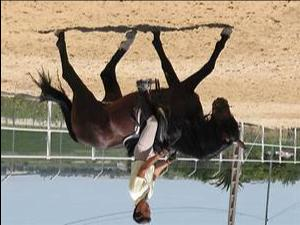horse: (25, 26, 246, 161)
